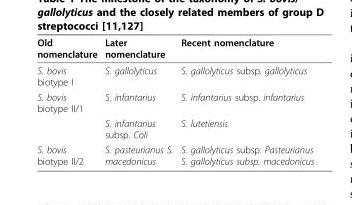table: (36, 36, 313, 166)
table column: (176, 36, 313, 166), (100, 36, 176, 166), (36, 36, 100, 166)
table column header: (36, 36, 313, 61)
table row: (36, 61, 313, 89), (36, 89, 313, 115), (36, 115, 313, 141), (36, 36, 313, 61), (36, 141, 313, 166)
table spanning cell: (36, 89, 100, 141)
